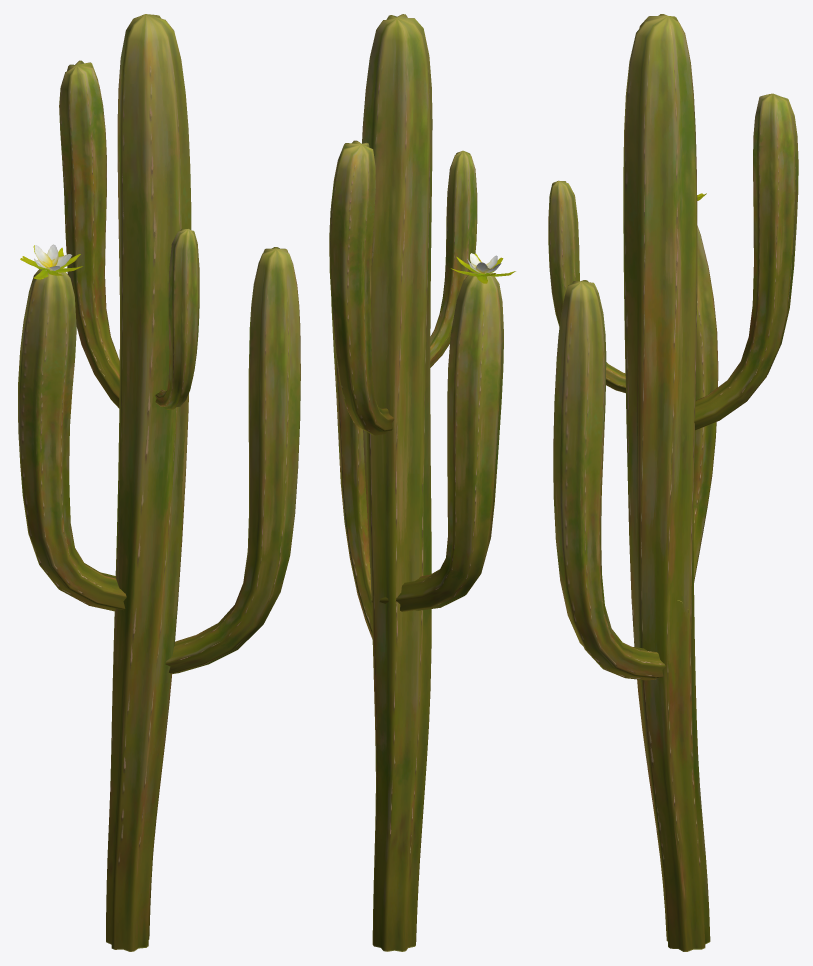
Rendered from P_Cactus06.obj.
The picture shows the model from 3 angles, left to right: view 1: azimuth 30°, elevation 25°; view 2: azimuth 150°, elevation 25°; view 3: azimuth 270°, elevation 25°; orthographic projection.
Bounding box in the file's own units: 2.87 × 11.09 × 2.7.
